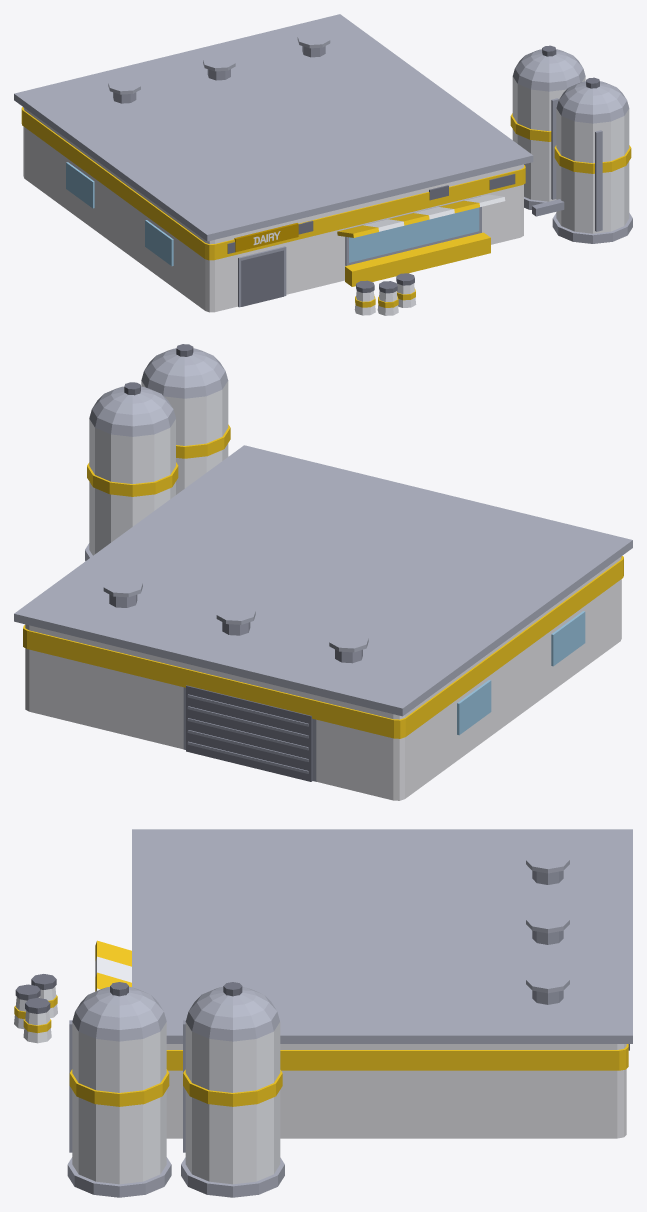
Rendered from dairy-2x2-t2-tone-a.glb.
3 renders of one model, top to bottom at view 1: azimuth 30°, elevation 25°; view 2: azimuth 150°, elevation 25°; view 3: azimuth 270°, elevation 25°, orthographic. The views are drawn at different scales.
Visible parts, largest first — view 1: dairy-2x2-t2-tone-a; view 2: dairy-2x2-t2-tone-a; view 3: dairy-2x2-t2-tone-a.
Part boxes in pixels (left/top/right/bottom): dairy-2x2-t2-tone-a: left=14, top=14, right=632, bottom=315; dairy-2x2-t2-tone-a: left=14, top=344, right=632, bottom=800; dairy-2x2-t2-tone-a: left=14, top=829, right=632, bottom=1197.
Bounding box in the file's own units: 1.98 × 0.665 × 1.97.
Materials: 1 (1 with a texture image).
